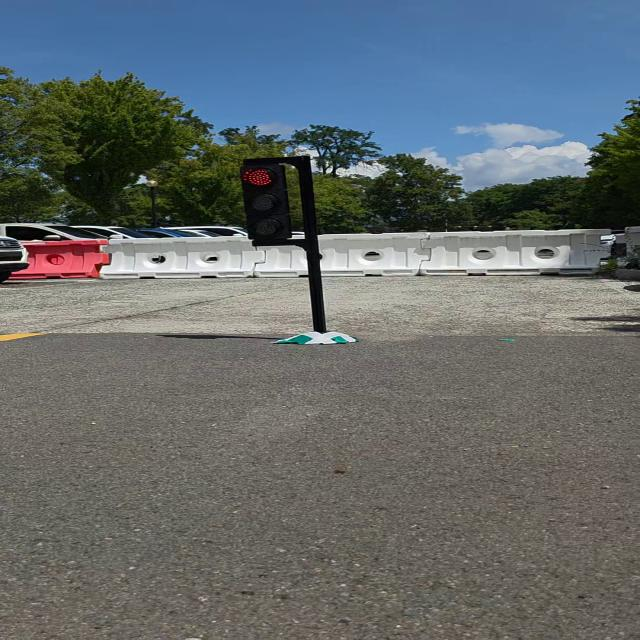red: (235, 159, 303, 250)
